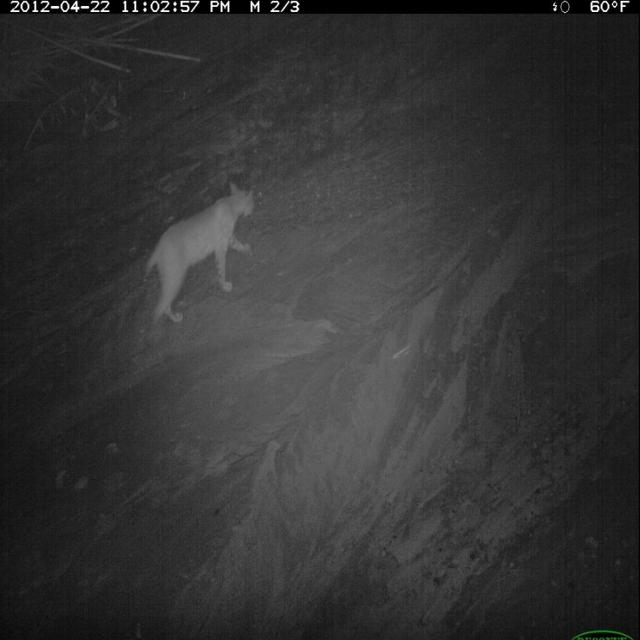bobcat: (139, 180, 261, 343)
